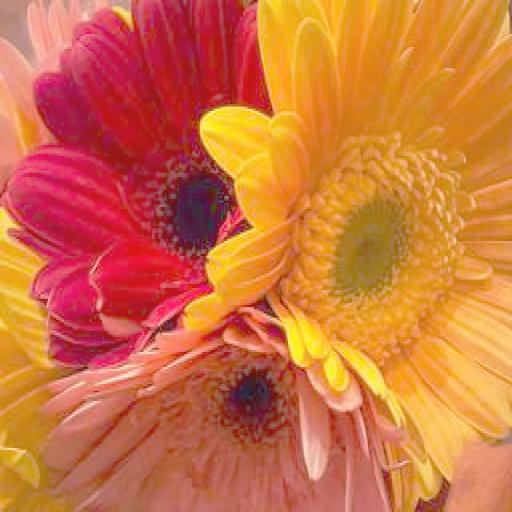sunflower: (2, 2, 511, 512)
